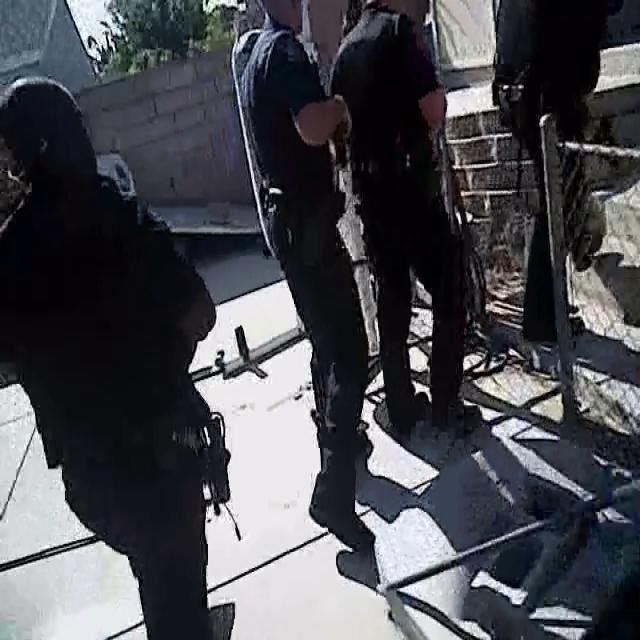gun: (316, 104, 368, 180)
